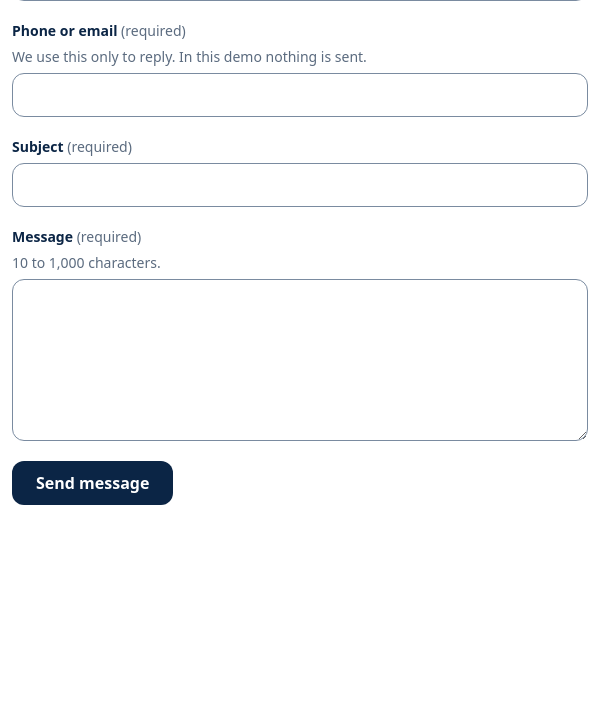
Test case: ContactForm › shows a summary and a message next to each field on an empty submit, and moves focus to the summary
Click the button "Send message". click: (93,483)
box: [12, 461, 173, 505]
(page scrolled)
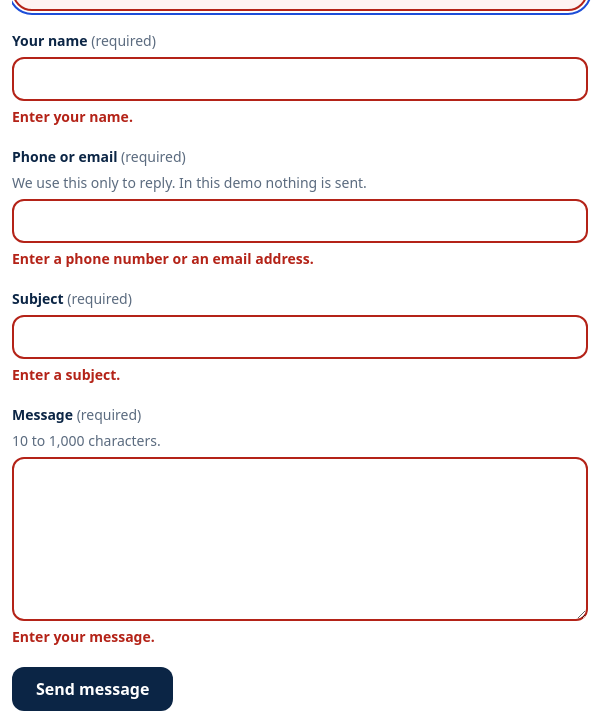
Expected: the element with id "contact-error" reads "Enter a phone number or an email address.", [12, 249, 314, 268]
